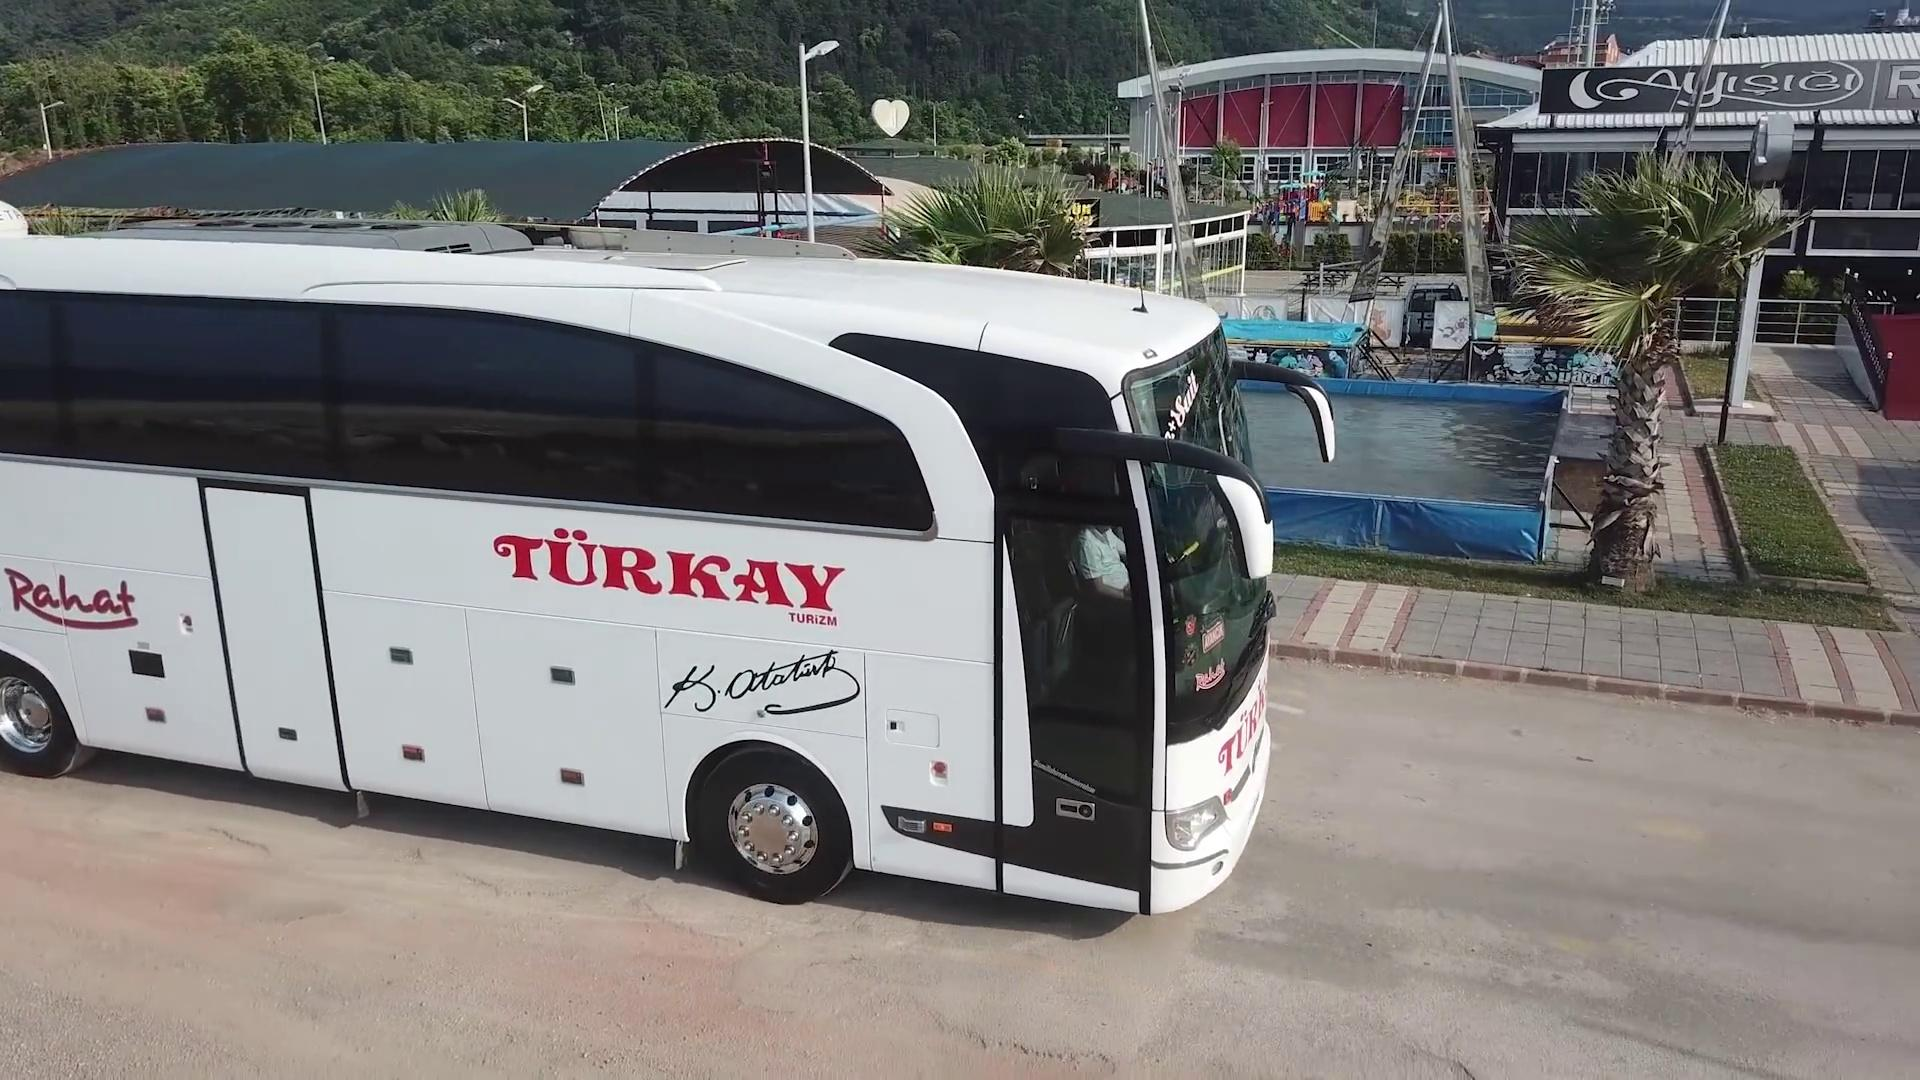Bus: (0, 207, 1333, 917)
